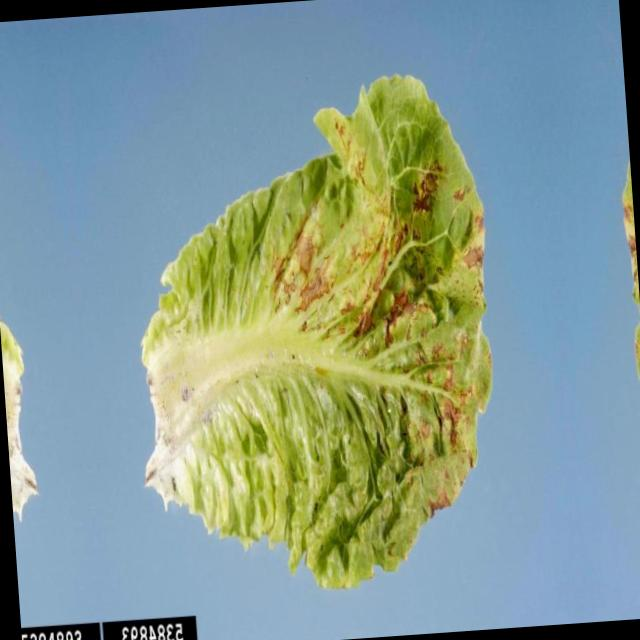healthy: (124, 66, 508, 601), (0, 98, 39, 610), (612, 55, 640, 566)
